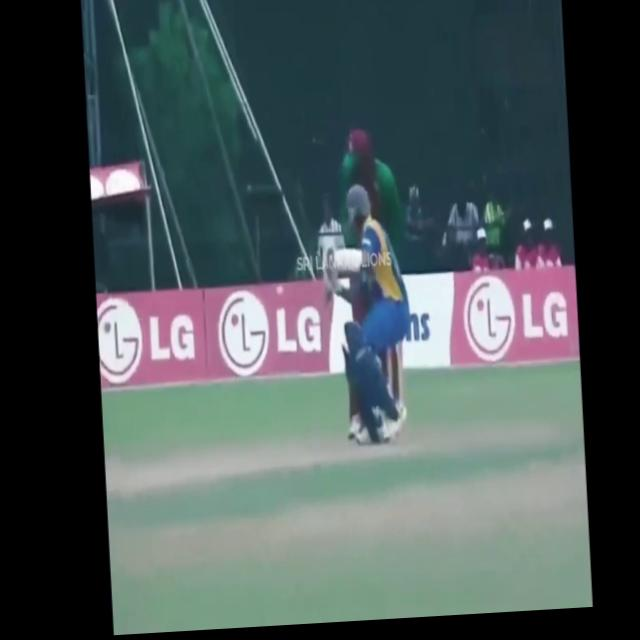Batsman: (317, 178, 426, 456)
